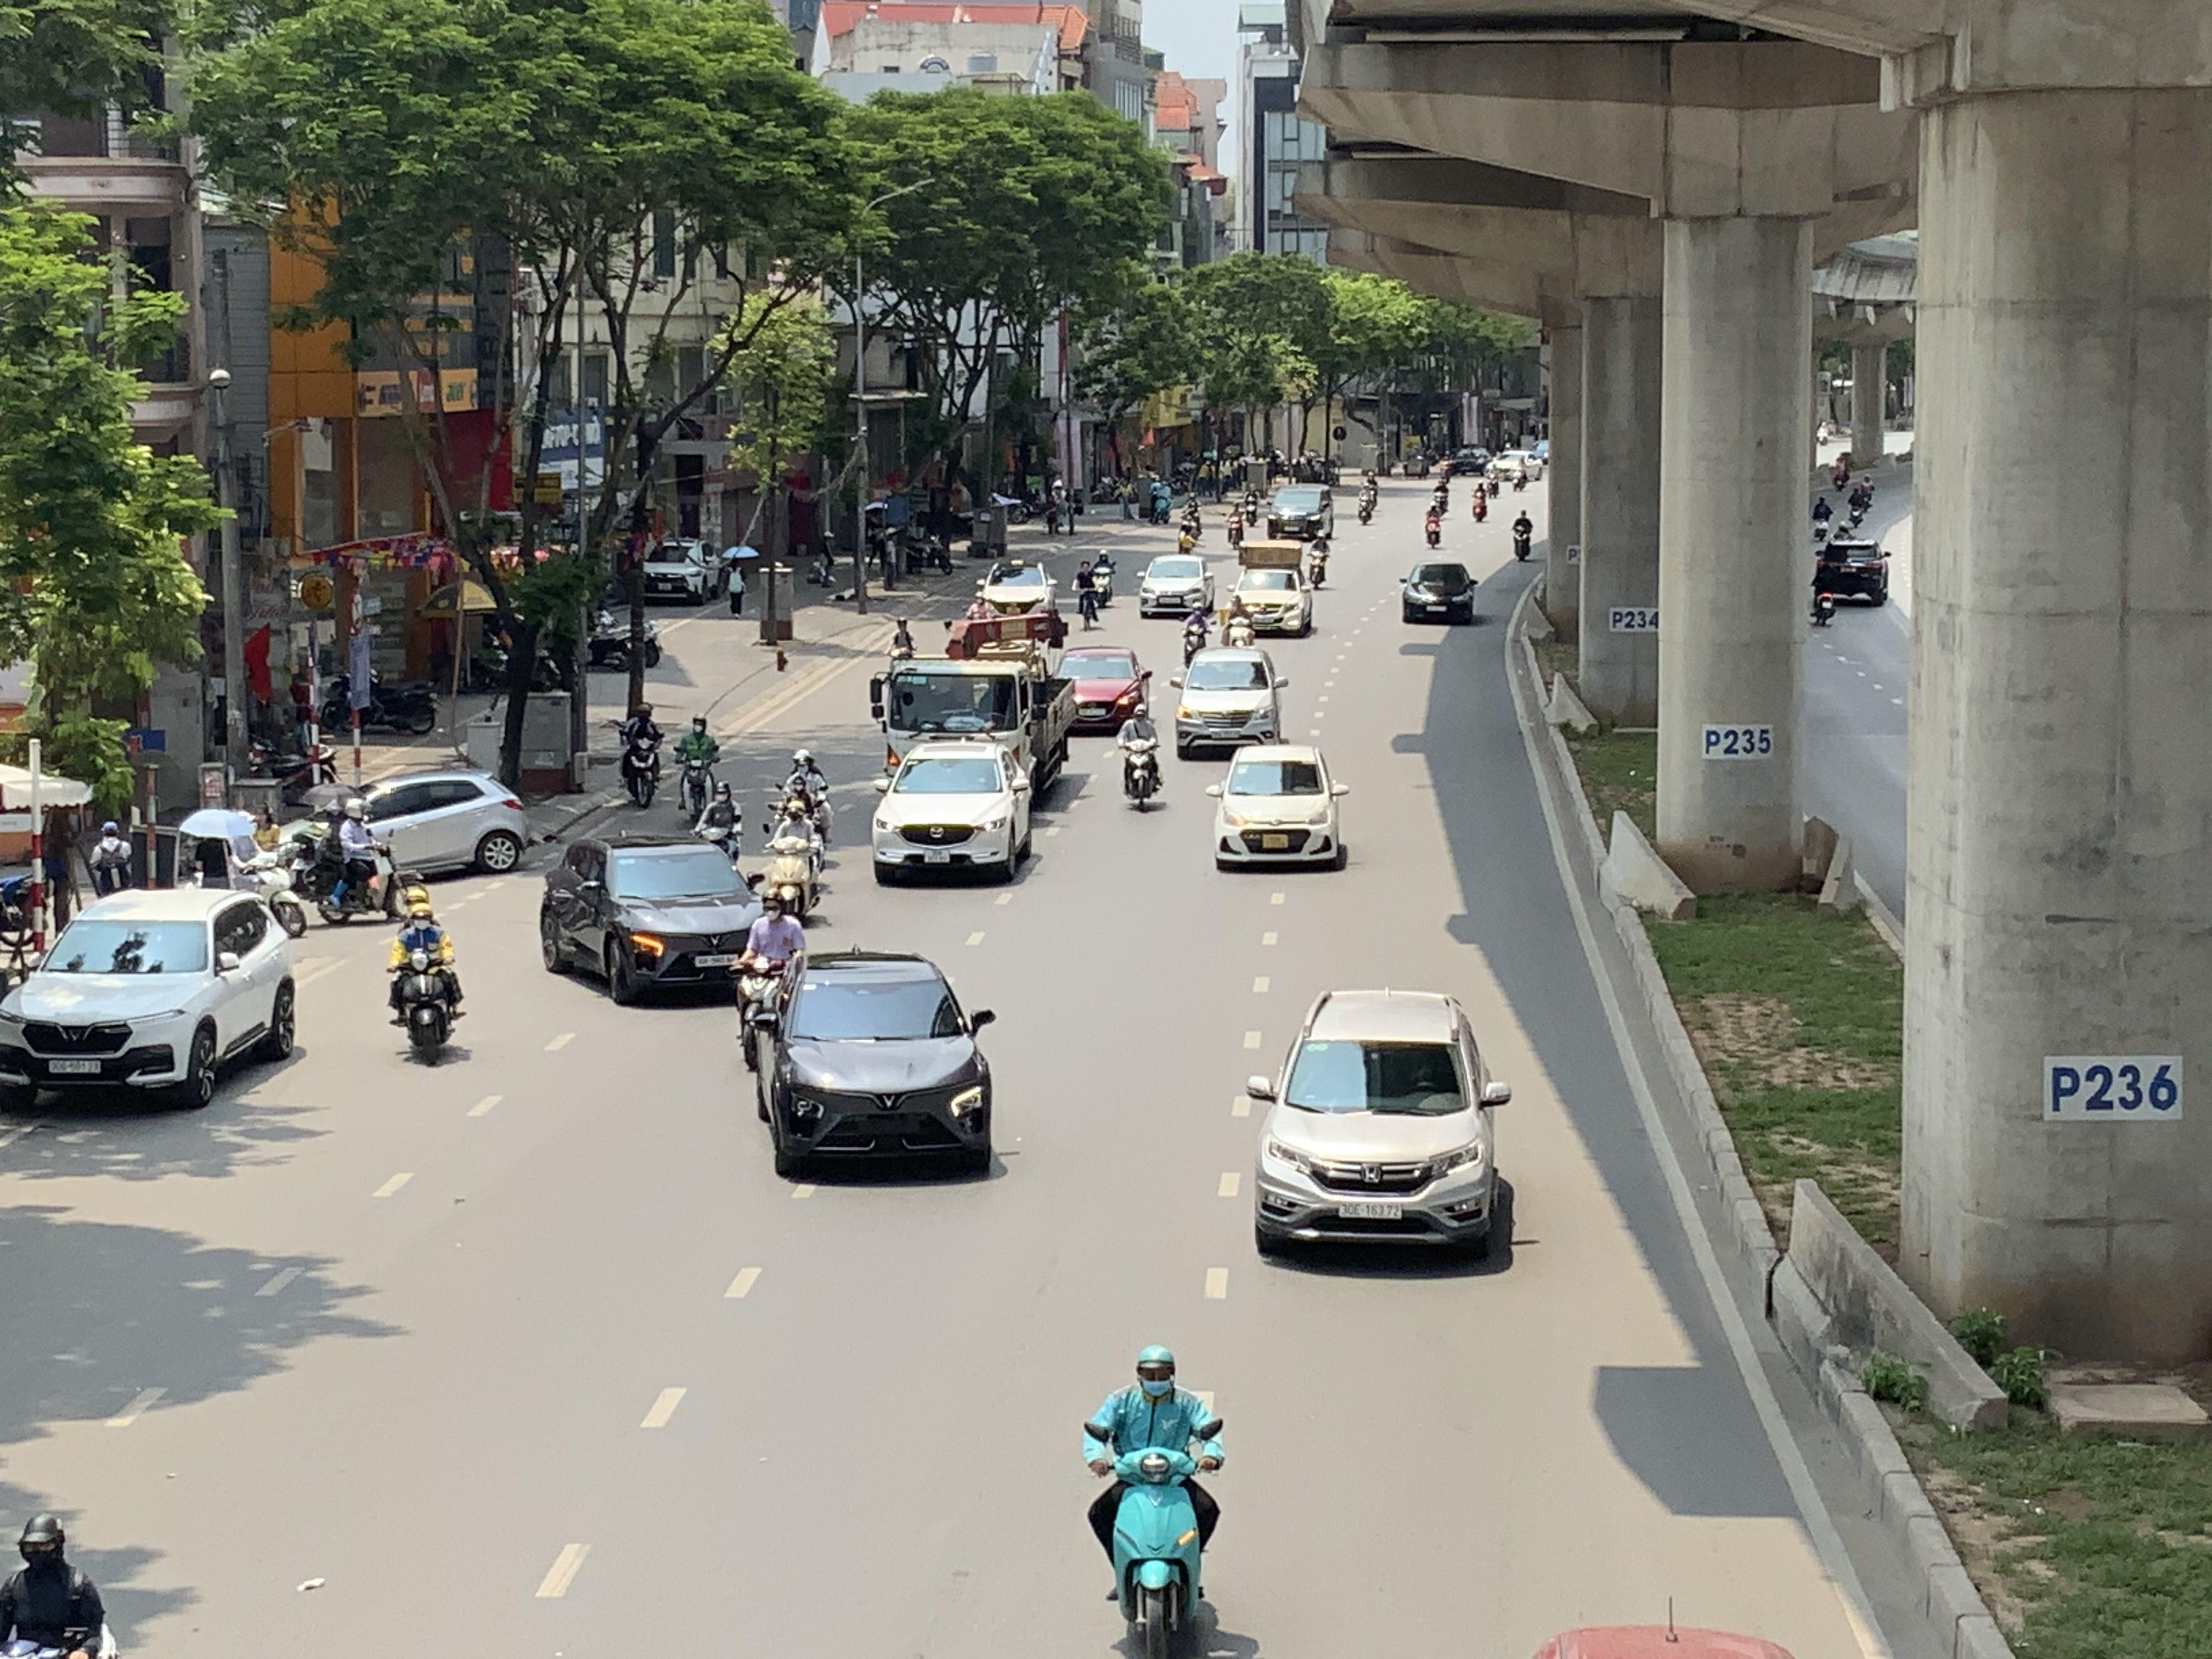BSD: (1338, 1201, 1404, 1220), (49, 1060, 101, 1073)
car: (1244, 988, 1515, 1265), (0, 885, 301, 1110), (745, 950, 1000, 1182), (538, 831, 768, 1006), (279, 769, 533, 882), (869, 739, 1036, 887), (1209, 742, 1352, 871), (1172, 645, 1289, 758), (1054, 645, 1153, 732), (1228, 561, 1315, 636), (1811, 530, 1892, 606), (639, 538, 719, 605), (1400, 558, 1477, 624), (1137, 551, 1214, 617), (1264, 484, 1334, 542)
motorbike: (1085, 1342, 1226, 1659), (0, 1511, 125, 1659), (730, 885, 810, 1065), (387, 889, 467, 1066), (303, 798, 411, 927), (756, 795, 829, 924), (772, 748, 834, 852), (672, 713, 723, 824), (617, 702, 665, 810), (1118, 702, 1163, 810), (695, 779, 745, 868), (1179, 594, 1212, 664), (1075, 559, 1104, 627), (1219, 586, 1251, 648), (1305, 530, 1332, 589), (1510, 507, 1536, 563), (1224, 497, 1247, 552)
truck: (880, 613, 1075, 807)
